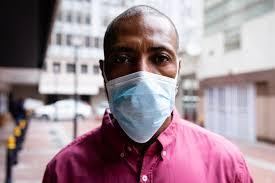Wearing Mask: (96, 5, 182, 147)
